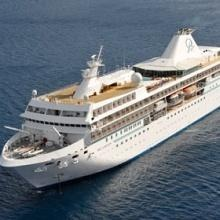youlun: (1, 25, 220, 187)
